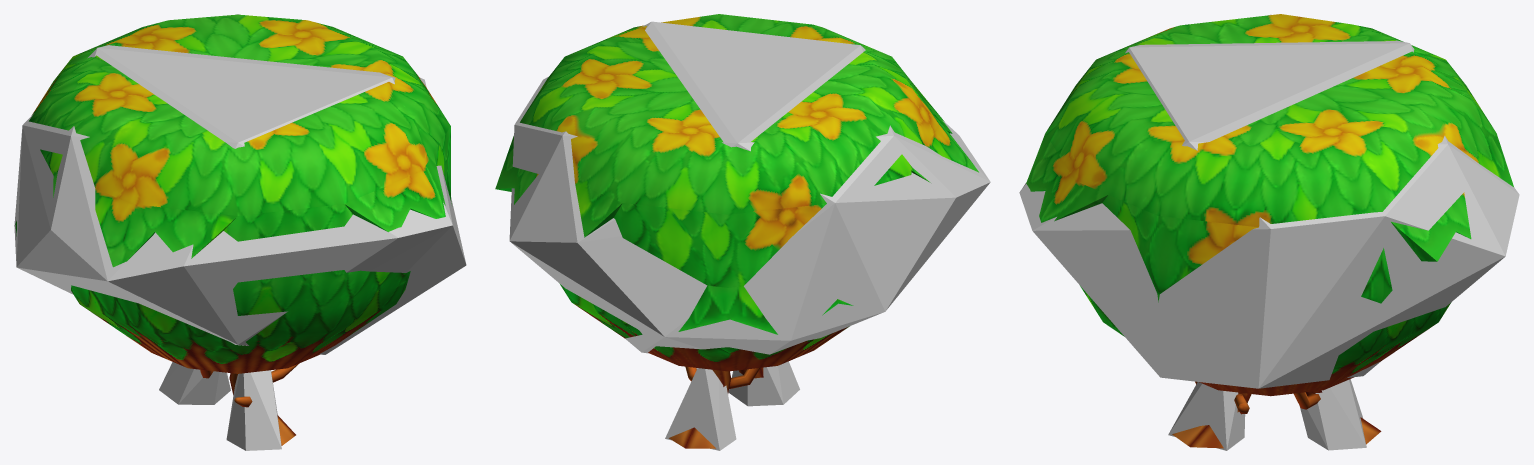
The model's file is SM_Bush03.fbx.
The picture shows the model from 3 angles, left to right: view 1: azimuth 30°, elevation 25°; view 2: azimuth 150°, elevation 25°; view 3: azimuth 270°, elevation 25°; orthographic projection. The views are drawn at different scales.
Visible parts, largest first — view 1: SM_Bush03, SM_Bush03_ConvexHulls; view 2: SM_Bush03_ConvexHulls, SM_Bush03; view 3: SM_Bush03_ConvexHulls, SM_Bush03.
Boxes of the visible parts, box(x1,y1,x2,y2) form: SM_Bush03: box(15, 14, 451, 445); SM_Bush03_ConvexHulls: box(14, 14, 466, 450); SM_Bush03_ConvexHulls: box(509, 21, 990, 450); SM_Bush03: box(495, 14, 978, 448); SM_Bush03_ConvexHulls: box(1019, 14, 1519, 450); SM_Bush03: box(1026, 14, 1513, 448).
Bounding box in the file's own units: 141 × 142 × 113.
Materials: 2 (1 with a texture image).
